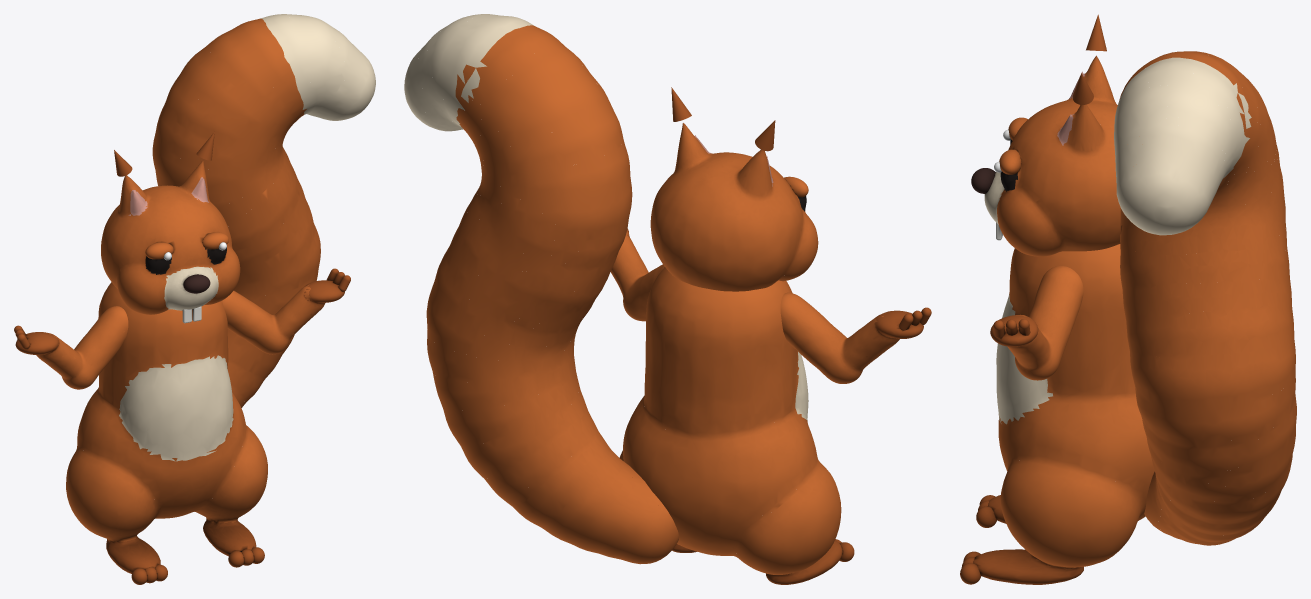
The model's file is det-spelar-ingen-roll.glb.
The picture shows the model from 3 angles, left to right: view 1: azimuth 30°, elevation 25°; view 2: azimuth 150°, elevation 25°; view 3: azimuth 270°, elevation 25°; orthographic projection. The views are drawn at different scales.
Visible parts, largest first — view 1: rabo__r0, esquilo__r0, cabeca__r0, pataD__r0, pataE__r0; view 2: rabo__r0, esquilo__r0, cabeca__r0, pataE__r0, pataD__r0; view 3: rabo__r0, esquilo__r0, cabeca__r0, pataD__r0, cabeca__r5, cabeca__r3.
Part boxes in pixels (x1,y1,x2,y2): rabo__r0: (152,14,375,407); esquilo__r0: (66,282,267,573); cabeca__r0: (101,160,240,314); pataD__r0: (222,280,344,354); pataE__r0: (15,306,128,389); rabo__r0: (404,14,679,564); esquilo__r0: (619,267,842,584); cabeca__r0: (650,123,818,291); pataE__r0: (780,292,923,383); pataD__r0: (610,228,664,321); rabo__r0: (1114,51,1296,545); esquilo__r0: (973,244,1154,584); cabeca__r0: (984,55,1120,256); pataD__r0: (990,266,1083,380); cabeca__r5: (971,168,995,193); cabeca__r3: (999,149,1021,174).
Bounding box in the file's own units: 2.2 × 2.43 × 1.27.
